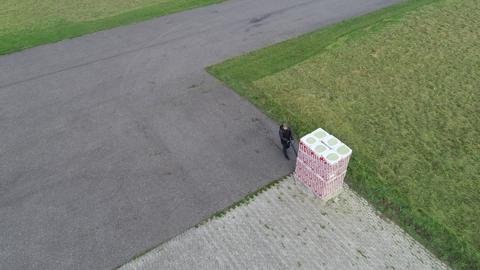RockwoolPallet: (293, 127, 355, 202)
